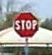stop: (12, 10, 38, 39)
